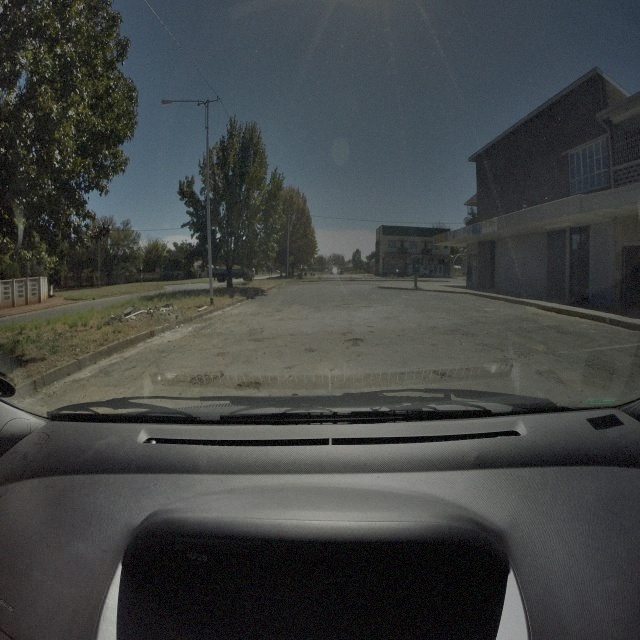pothole: (188, 368, 224, 388), (536, 367, 568, 388), (236, 378, 264, 396), (346, 336, 364, 345)
